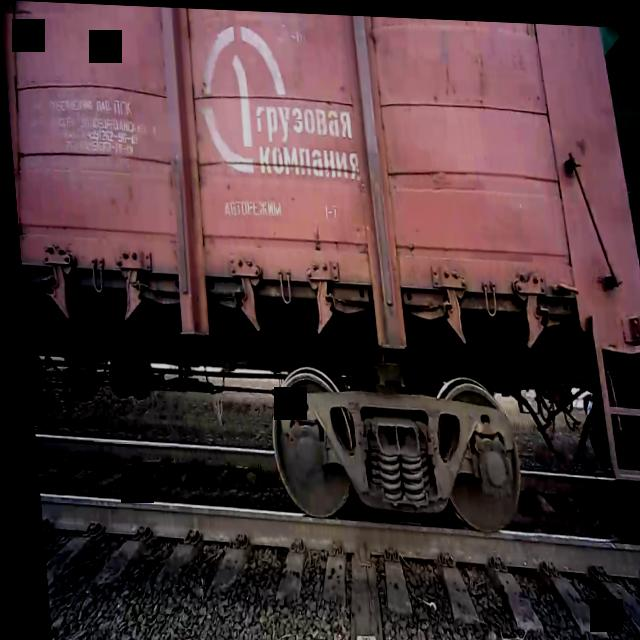gondola: (0, 0, 640, 532)
